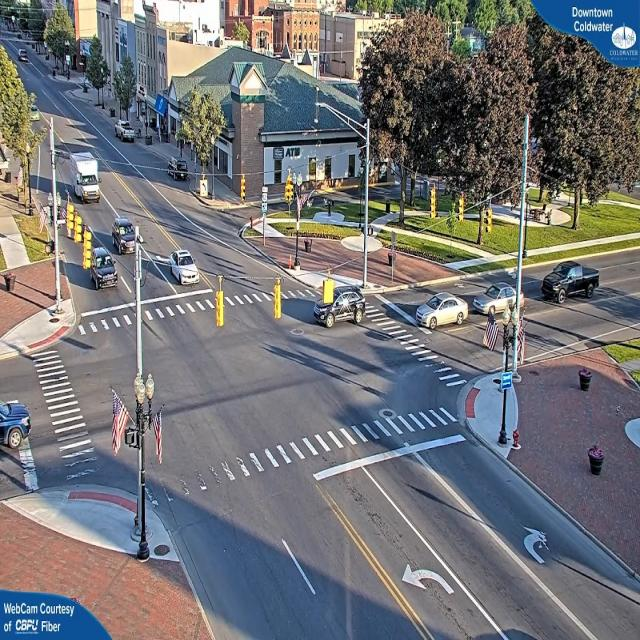car: (312, 282, 364, 328), (542, 262, 601, 300), (469, 283, 524, 316), (0, 400, 30, 460), (415, 295, 463, 329), (169, 250, 202, 287), (112, 218, 140, 256), (90, 251, 119, 287), (586, 443, 606, 475), (116, 122, 136, 143)
truck: (64, 148, 102, 207)
